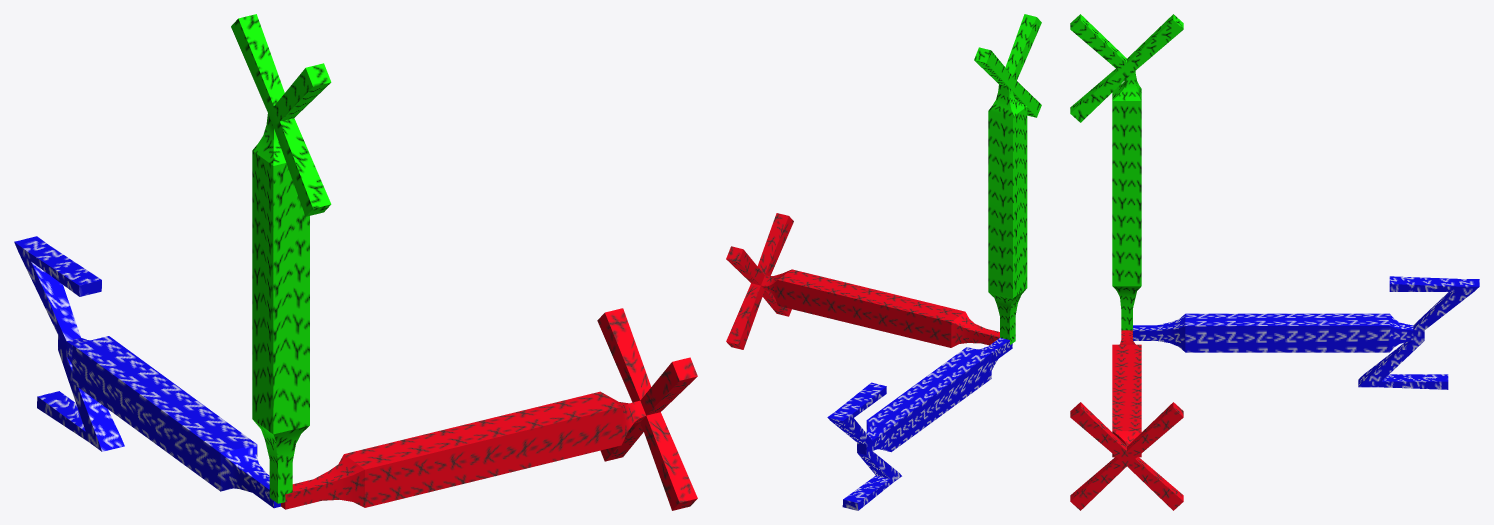
Rendered from XYZ_Forward(+Z)_Up(+X).fbx.
The picture shows the model from 3 angles, left to right: view 1: azimuth 30°, elevation 25°; view 2: azimuth 150°, elevation 25°; view 3: azimuth 270°, elevation 25°; orthographic projection. The views are drawn at different scales.
Visible parts, largest first — view 1: X_Transform, Y_Transform, Z_Transform; view 2: X_Transform, Y_Transform, Z_Transform; view 3: Z_Transform, Y_Transform, X_Transform.
Part boxes in pixels (<box>): X_Transform: <box>281,308,697,510</box>; Y_Transform: <box>231,14,331,503</box>; Z_Transform: <box>14,236,280,508</box>; X_Transform: <box>726,213,999,349</box>; Y_Transform: <box>974,14,1041,344</box>; Z_Transform: <box>827,337,1012,510</box>; Z_Transform: <box>1133,276,1479,389</box>; Y_Transform: <box>1070,14,1183,330</box>; X_Transform: <box>1070,330,1183,510</box>.
Bounding box in the file's own units: 139 × 108 × 140.
